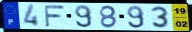3: (149, 6, 171, 29)
4: (22, 4, 41, 29)
8: (98, 4, 118, 29)
9: (126, 4, 146, 29), (74, 4, 94, 29)
F: (43, 5, 66, 28)
